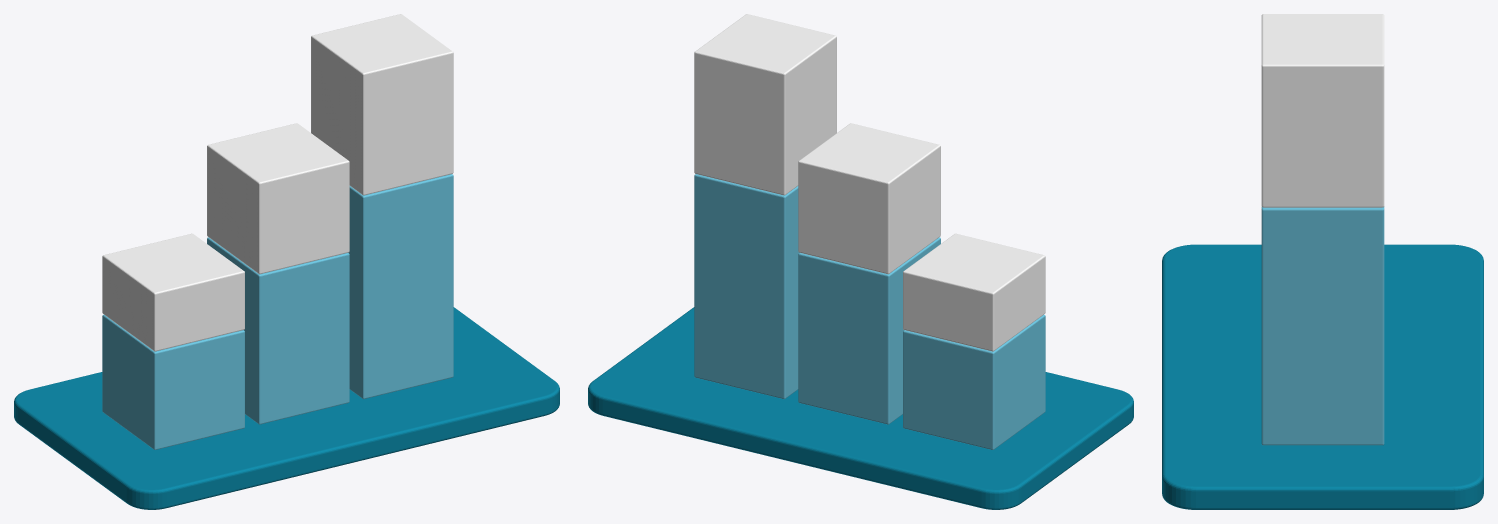
File: bargraph.glb
3 renders of one model, left to right at view 1: azimuth 30°, elevation 25°; view 2: azimuth 150°, elevation 25°; view 3: azimuth 270°, elevation 25°, orthographic. The views are drawn at different scales.
Visible parts, largest first — view 1: Cube.006_14, Cube_8, Cube.001_9, Cube.003_11, Cube.002_10, Cube.004_12, Cube.005_13; view 2: Cube.006_14, Cube_8, Cube.001_9, Cube.003_11, Cube.002_10, Cube.004_12, Cube.005_13; view 3: Cube.006_14, Cube_8, Cube.001_9.
Part boxes in pixels (box(x1,y1,x2,y2)): Cube.006_14: box(14, 307, 559, 509); Cube_8: box(348, 174, 453, 399); Cube.001_9: box(311, 14, 453, 195); Cube.003_11: box(207, 123, 349, 274); Cube.002_10: box(207, 237, 349, 424); Cube.004_12: box(102, 314, 244, 449); Cube.005_13: box(102, 233, 244, 351); Cube.006_14: box(588, 307, 1133, 509); Cube_8: box(694, 174, 799, 399); Cube.001_9: box(694, 14, 836, 195); Cube.003_11: box(798, 123, 940, 274); Cube.002_10: box(798, 237, 940, 424); Cube.004_12: box(903, 314, 1045, 449); Cube.005_13: box(903, 233, 1045, 351); Cube.006_14: box(1162, 244, 1483, 509); Cube_8: box(1261, 207, 1384, 445); Cube.001_9: box(1261, 14, 1384, 207).
Size of the model in its own units: 0.3273 by 0.2519 by 0.182.
